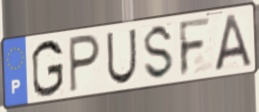A: (213, 12, 253, 73)
F: (177, 16, 213, 80)
G: (29, 38, 65, 100)
P: (68, 32, 103, 95)
S: (142, 22, 176, 82)
U: (105, 27, 138, 87)
